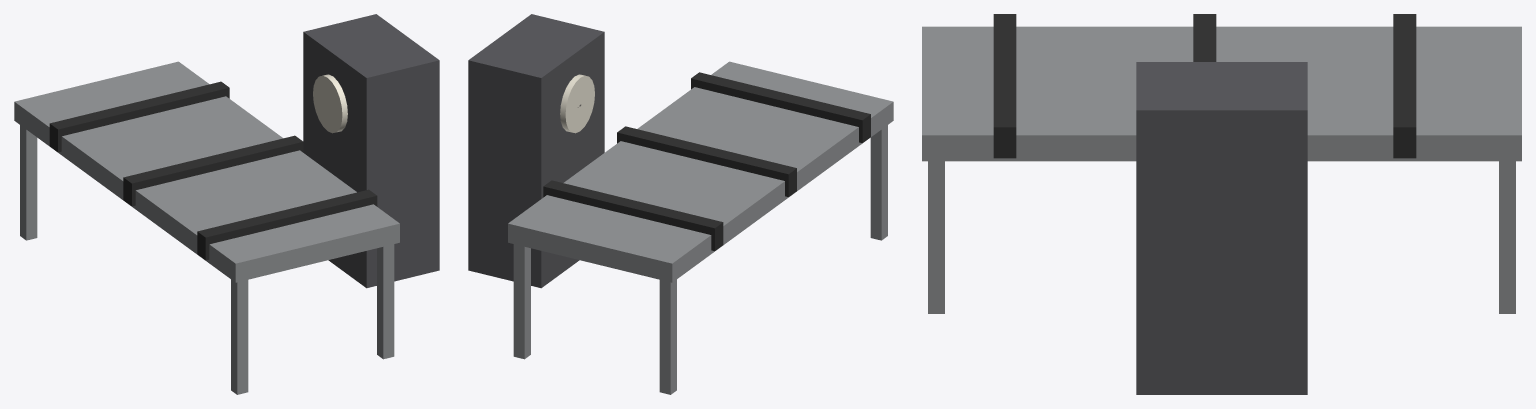
Rendered from rack.glb.
3 renders of one model, left to right at view 1: azimuth 30°, elevation 25°; view 2: azimuth 150°, elevation 25°; view 3: azimuth 270°, elevation 25°, orthographic. The views are drawn at different scales.
Parts seen in each view (by area): view 1: rack; view 2: rack; view 3: rack.
Boxes of the visible parts, x1,y1,x2,y2 form: rack: [14, 14, 439, 394]; rack: [468, 14, 893, 394]; rack: [922, 14, 1521, 394].
Size of the model in its own units: 1.57 by 1.1 by 2.1.
